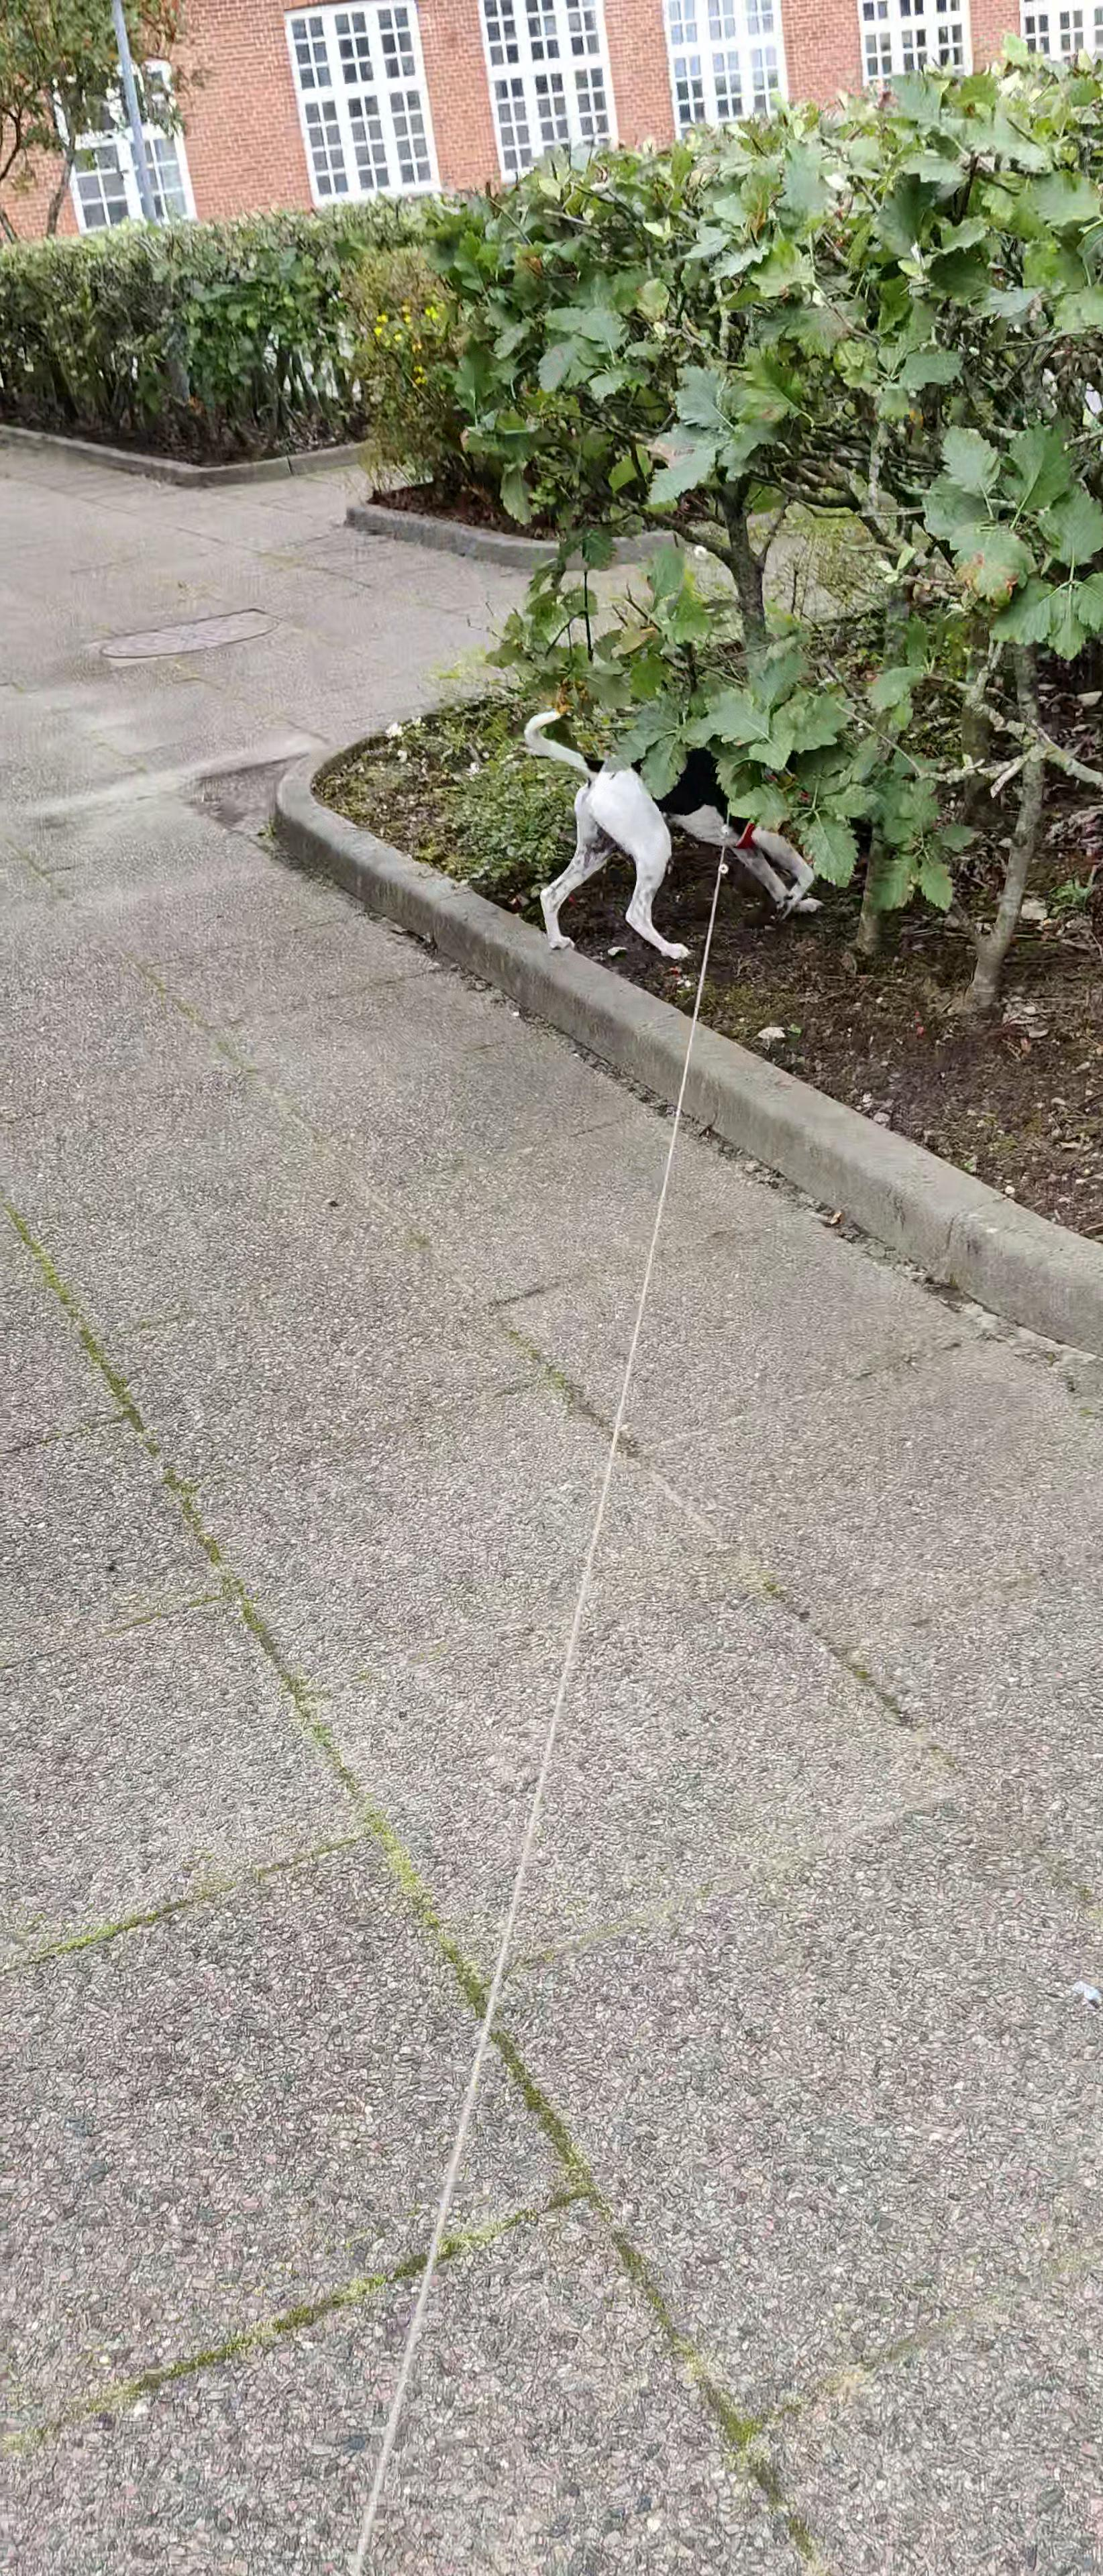Dog: (519, 703, 847, 959)
